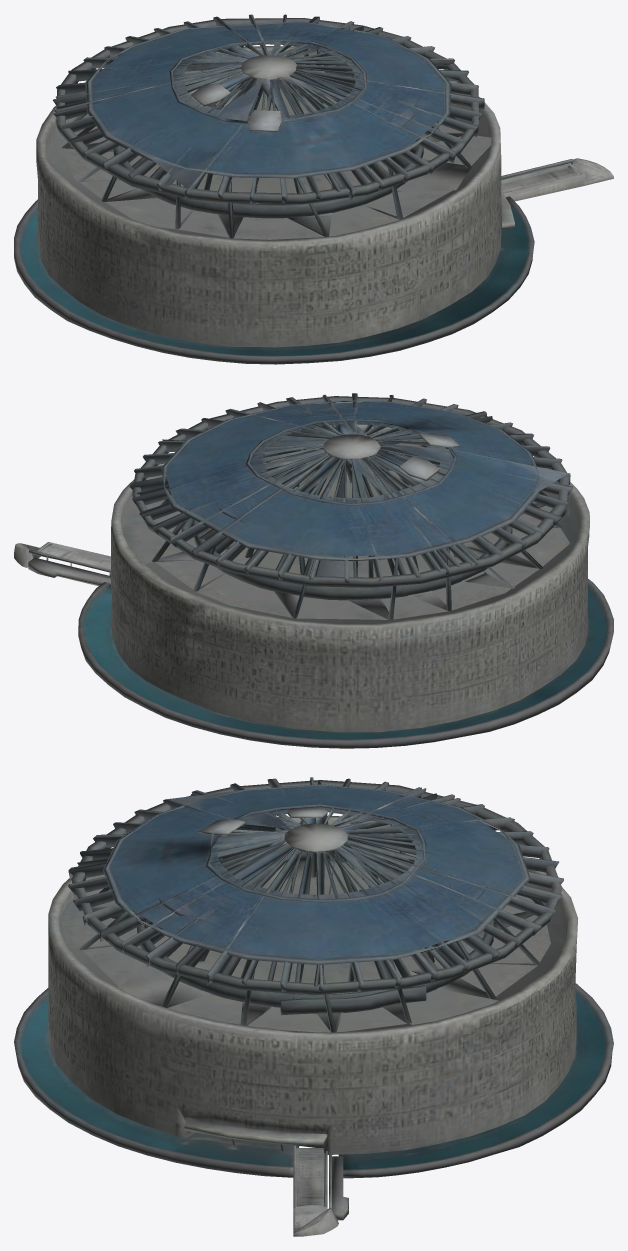
Rendered from bibliotheca.glb.
3 renders of one model, top to bottom at view 1: azimuth 30°, elevation 25°; view 2: azimuth 150°, elevation 25°; view 3: azimuth 270°, elevation 25°, orthographic. The views are drawn at different scales.
Visible parts, largest first — view 1: tripo_node_ed294725-a082-4efe-93e8-bb37e80fa1b1; view 2: tripo_node_ed294725-a082-4efe-93e8-bb37e80fa1b1; view 3: tripo_node_ed294725-a082-4efe-93e8-bb37e80fa1b1.
Part boxes in pixels (x1,y1,x2,y2): tripo_node_ed294725-a082-4efe-93e8-bb37e80fa1b1: [14, 14, 613, 364]; tripo_node_ed294725-a082-4efe-93e8-bb37e80fa1b1: [14, 393, 613, 748]; tripo_node_ed294725-a082-4efe-93e8-bb37e80fa1b1: [14, 777, 613, 1236].
Size of the model in its own units: 0.998 by 0.3262 by 0.8184.
1 material, 1 textured.
